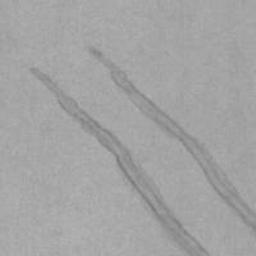Water spot: (28, 64, 214, 256), (88, 46, 256, 234)
